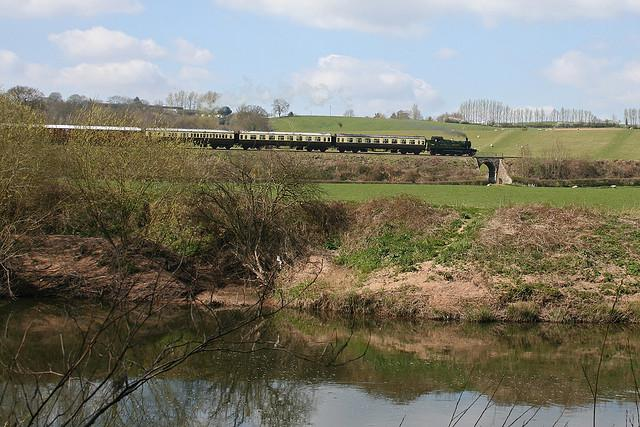Train: (45, 123, 475, 156)
